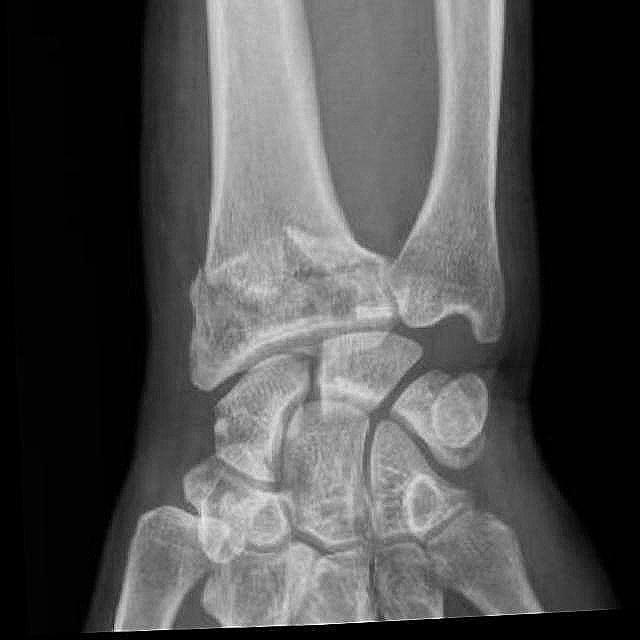bone: (172, 187, 398, 390)
